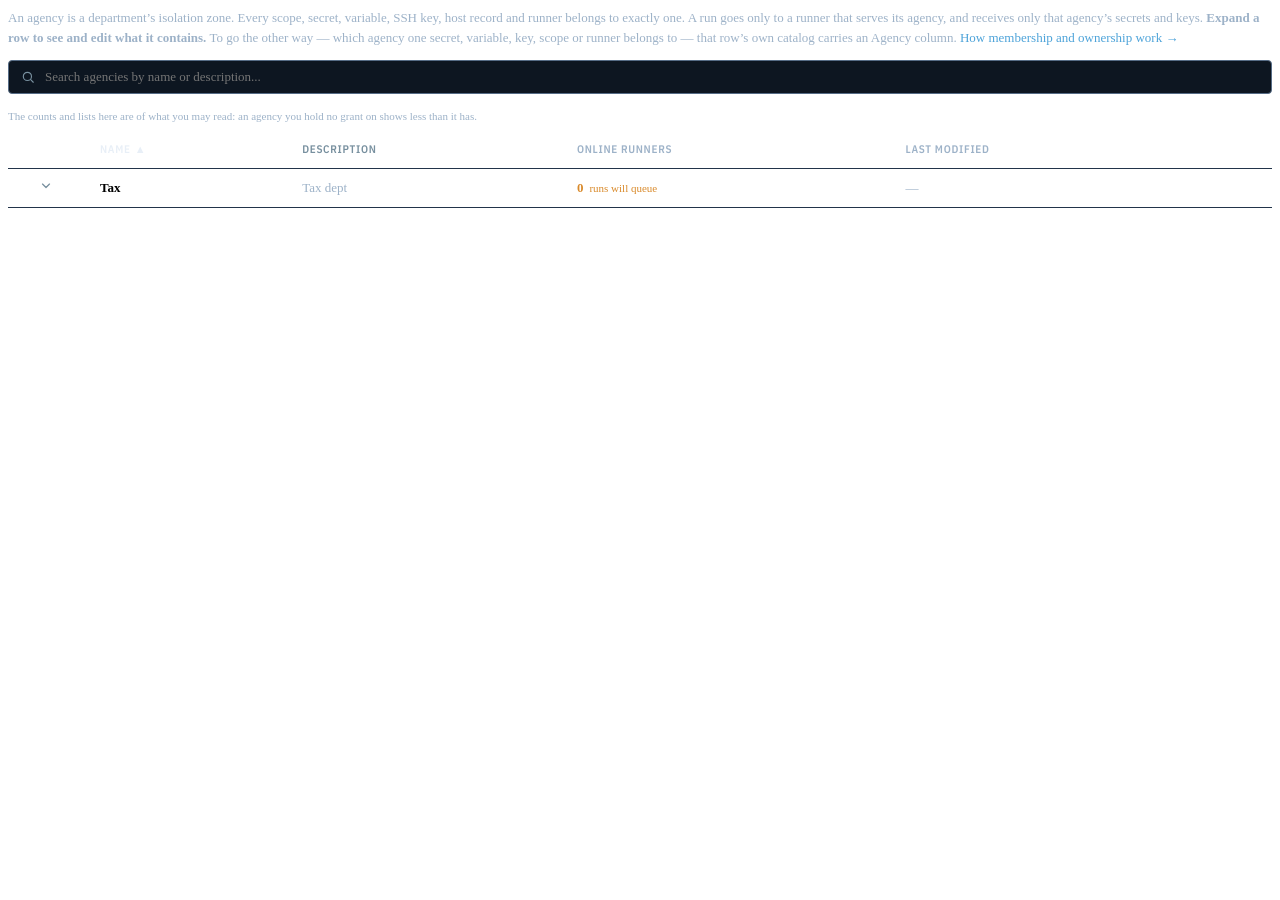
Test: per-agency member editor (RB-22) › is read-only without ConfigureApp
Expected: the text "Tax" is shown, [84,169,286,208]
Click the text "Tax" at (640, 188), box [8,169,1272,208]
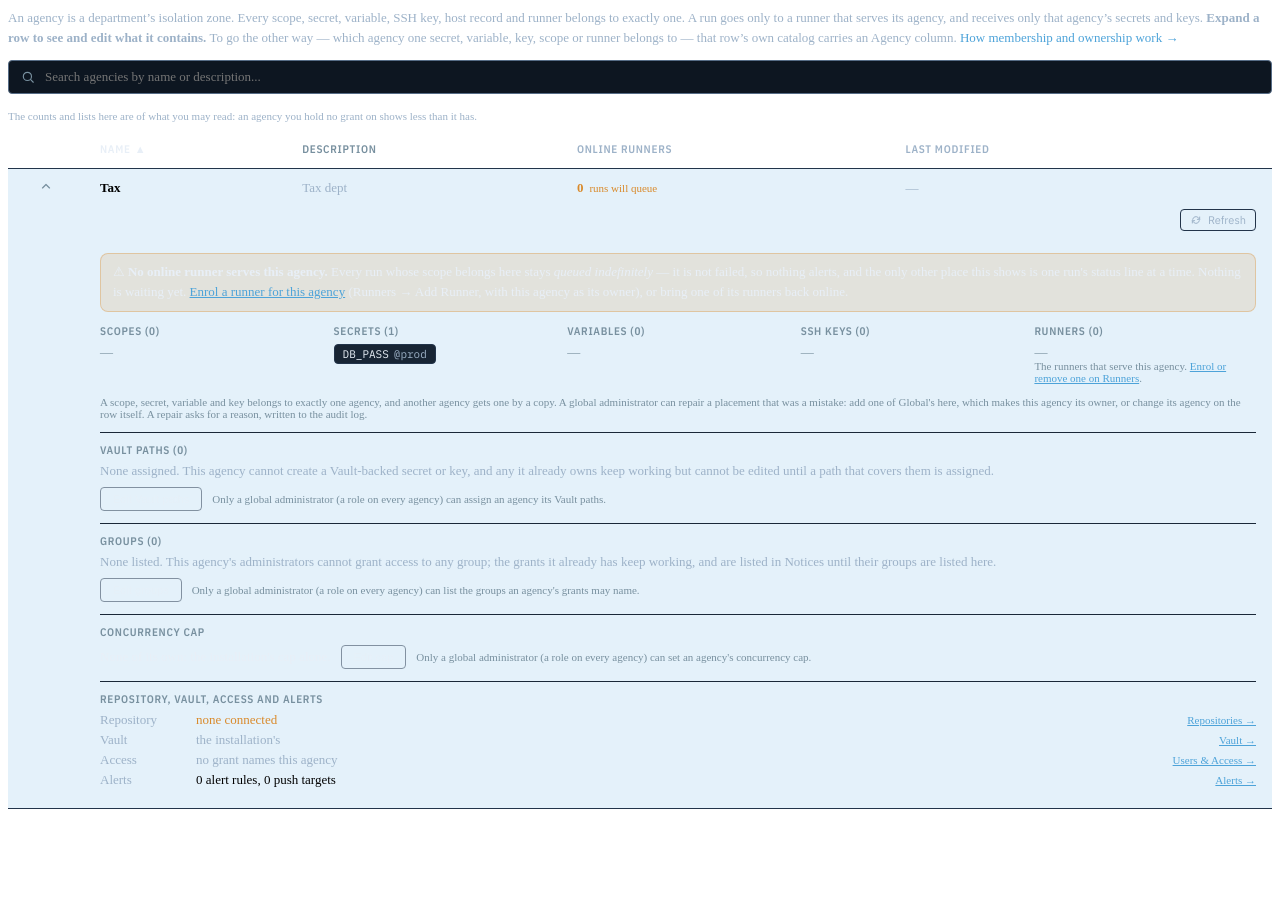
Expected: the text "DB_PASS" is shown, [343,347,389,361]
